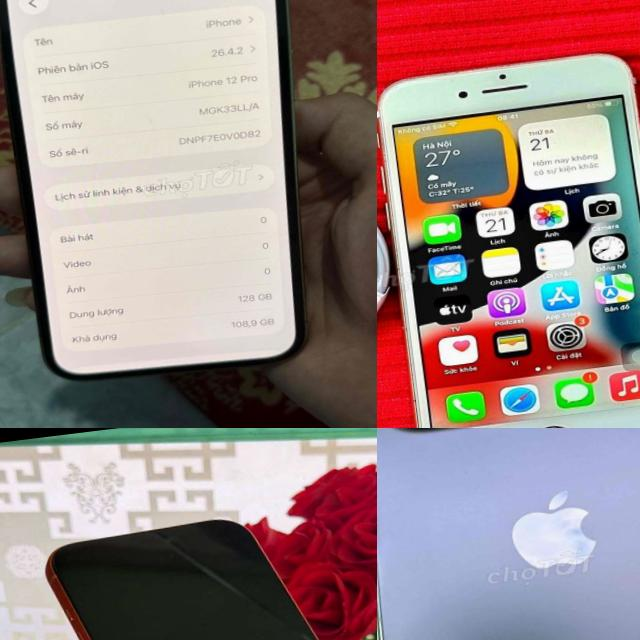scratch: (396, 48, 612, 88)
